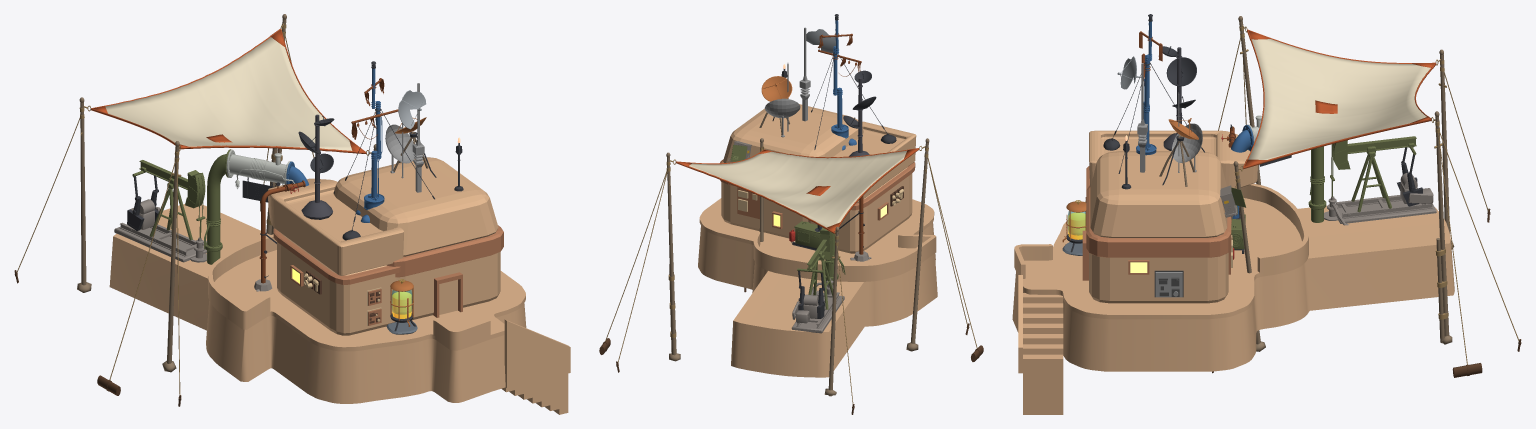
The model's file is nomad_building_b31.fbx.
3 renders of one model, left to right at view 1: azimuth 30°, elevation 25°; view 2: azimuth 150°, elevation 25°; view 3: azimuth 270°, elevation 25°, orthographic. The views are drawn at different scales.
Parts seen in each view (by area): view 1: NomadBuilding_B31; view 2: NomadBuilding_B31; view 3: NomadBuilding_B31.
Boxes of the visible parts, x1=… form: NomadBuilding_B31: x1=14, y1=14, x2=570, y2=414; NomadBuilding_B31: x1=599, y1=14, x2=983, y2=414; NomadBuilding_B31: x1=1012, y1=14, x2=1521, y2=414.
Bounding box in the file's own units: 1999 × 1836 × 2514.
